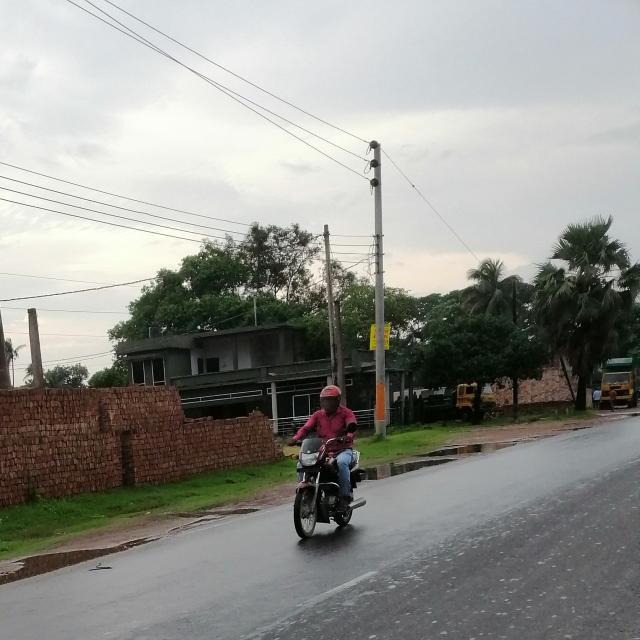Motorbike: (272, 418, 370, 541)
Truck: (594, 354, 640, 415)
